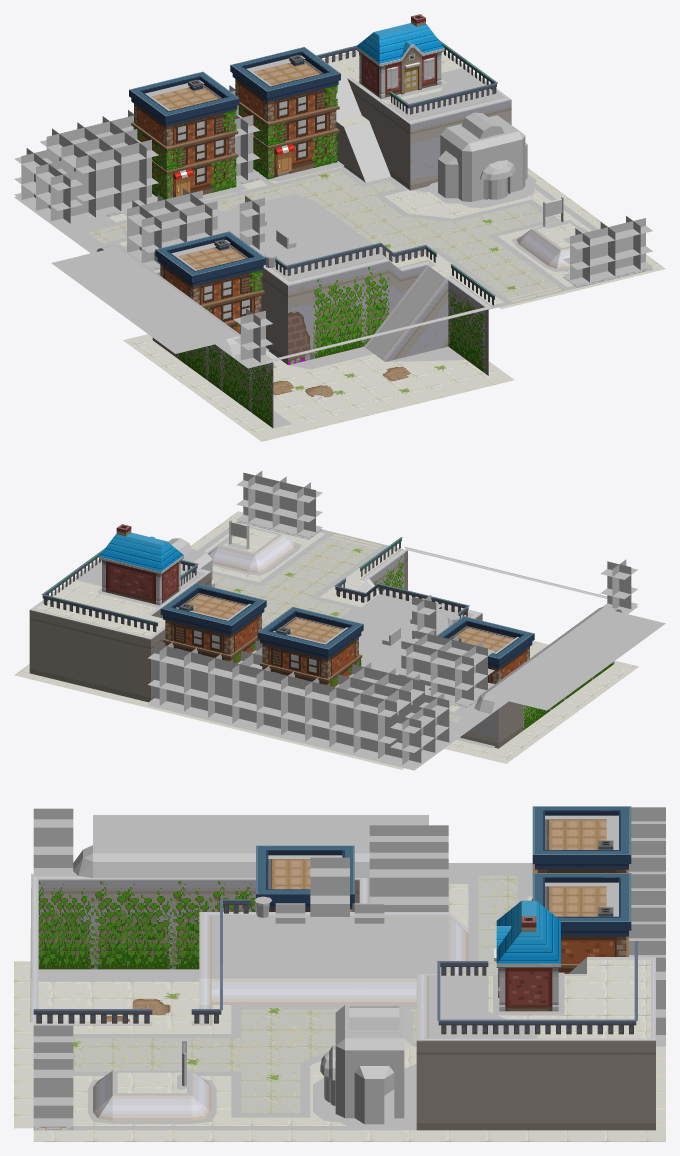
File: accumula_town.obj
The picture shows the model from 3 angles, top to bottom: view 1: azimuth 30°, elevation 25°; view 2: azimuth 150°, elevation 25°; view 3: azimuth 270°, elevation 25°; orthographic projection. The views are drawn at different scales.
Bounding box in the file's own units: 592 × 242 × 528.
